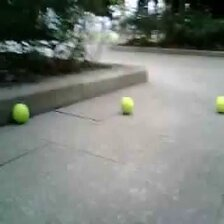tennis: (12, 103, 32, 125), (121, 95, 134, 112), (215, 95, 224, 113)
